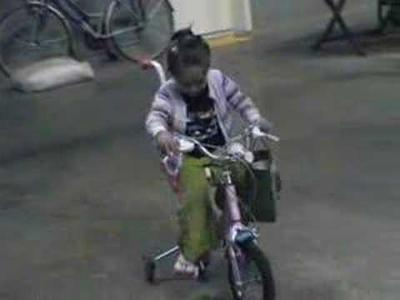person: (148, 22, 276, 282)
